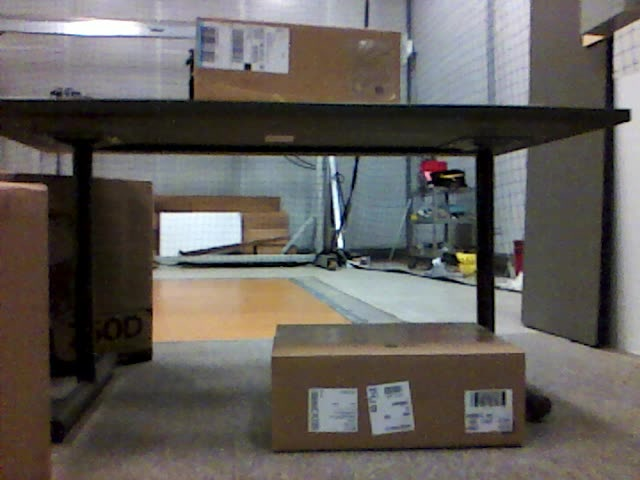box: (272, 324, 526, 446), (195, 19, 401, 106), (1, 182, 51, 480)
